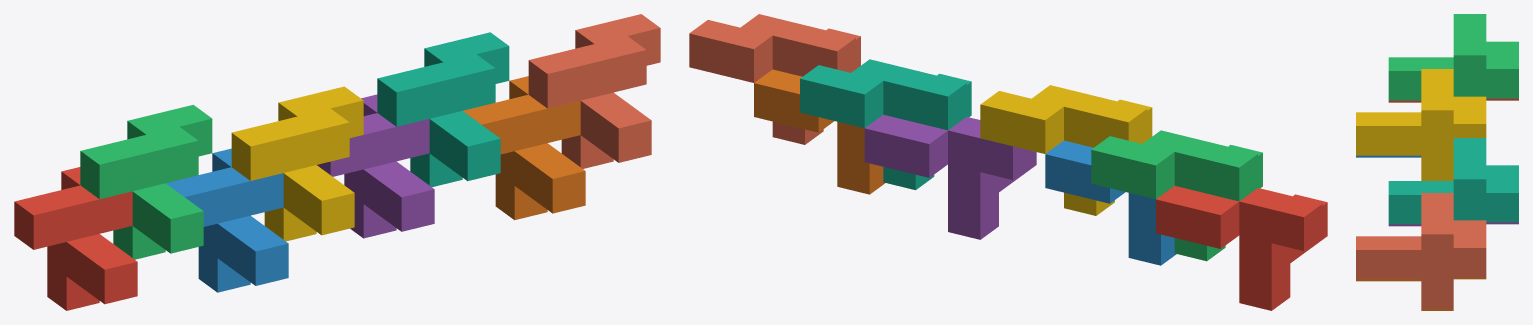
File: tiling.obj
The picture shows the model from 3 angles, left to right: view 1: azimuth 30°, elevation 25°; view 2: azimuth 150°, elevation 25°; view 3: azimuth 270°, elevation 25°; orthographic projection. The views are drawn at different scales.
Visible parts, largest first — view 1: copy_1_domain_7, copy_1_domain_4, copy_1_domain_3, copy_1_domain_8, copy_1_domain_1, copy_1_domain_6, copy_1_domain_2, copy_1_domain_5; view 2: copy_1_domain_1, copy_1_domain_5, copy_1_domain_3, copy_1_domain_7, copy_1_domain_4, copy_1_domain_8, copy_1_domain_2, copy_1_domain_6; view 3: copy_1_domain_8, copy_1_domain_4, copy_1_domain_3, copy_1_domain_7, copy_1_domain_6, copy_1_domain_1, copy_1_domain_5, copy_1_domain_2.
Boxes of the visible parts, x1,y1,x2,y2 form: copy_1_domain_7: (377, 32, 509, 187); copy_1_domain_4: (231, 86, 363, 241); copy_1_domain_3: (80, 104, 212, 259); copy_1_domain_8: (528, 14, 660, 168); copy_1_domain_1: (14, 167, 137, 310); copy_1_domain_6: (463, 76, 585, 220); copy_1_domain_2: (166, 148, 288, 292); copy_1_domain_5: (317, 94, 434, 238); copy_1_domain_1: (1156, 185, 1327, 310); copy_1_domain_5: (864, 114, 1036, 239); copy_1_domain_3: (1091, 130, 1262, 261); copy_1_domain_7: (800, 59, 971, 190); copy_1_domain_4: (980, 85, 1152, 215); copy_1_domain_8: (689, 14, 860, 144); copy_1_domain_2: (1045, 140, 1176, 265); copy_1_domain_6: (754, 69, 884, 194); copy_1_domain_8: (1356, 193, 1486, 308); copy_1_domain_4: (1356, 69, 1486, 180); copy_1_domain_3: (1388, 14, 1518, 100); copy_1_domain_7: (1388, 138, 1518, 224); copy_1_domain_6: (1356, 277, 1486, 310); copy_1_domain_1: (1388, 98, 1518, 102); copy_1_domain_5: (1388, 222, 1518, 226); copy_1_domain_2: (1356, 155, 1421, 157).
Size of the model in its own units: 19 by 4 by 5.
